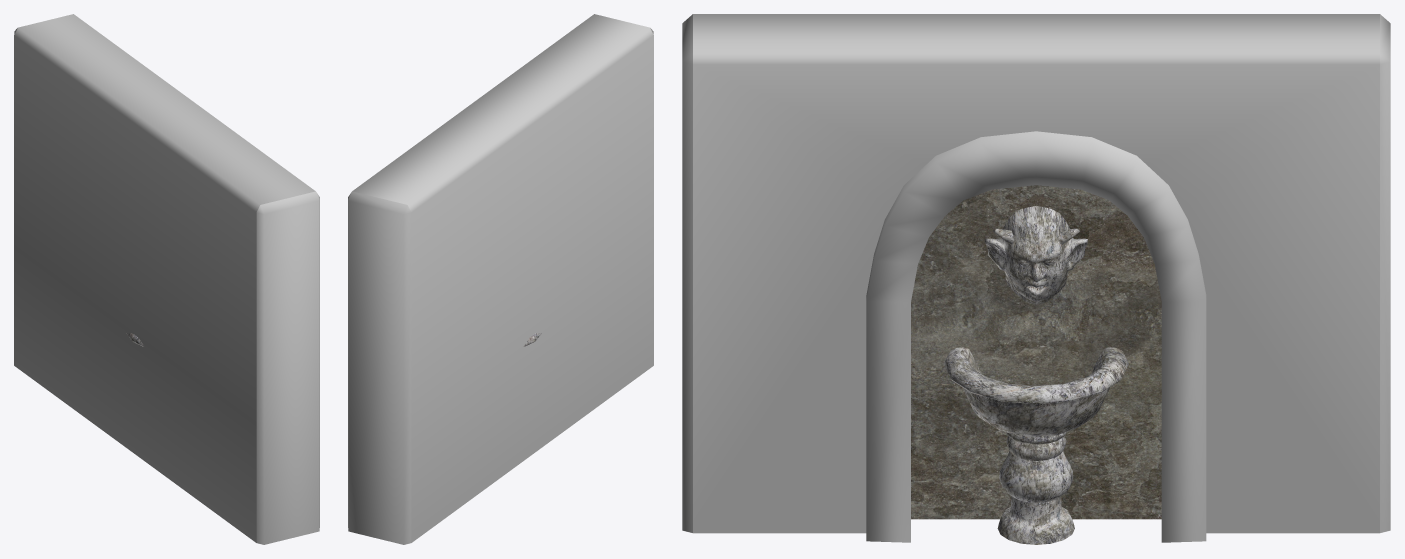
The model's file is Wall_Fountain.FBX.
3 renders of one model, left to right at view 1: azimuth 30°, elevation 25°; view 2: azimuth 150°, elevation 25°; view 3: azimuth 270°, elevation 25°, orthographic. The views are drawn at different scales.
Parts seen in each view (by area): view 1: Wall_Fountain; view 2: Wall_Fountain; view 3: Wall_Fountain, Cover_Fountain, Fountain, Face_Fountain.
Boxes of the visible parts, <box> form: Wall_Fountain: <box>14,14,319,544</box>; Wall_Fountain: <box>348,14,653,544</box>; Wall_Fountain: <box>682,14,1390,542</box>; Cover_Fountain: <box>911,185,1161,519</box>; Fountain: <box>944,347,1128,544</box>; Face_Fountain: <box>985,206,1087,305</box>.
Size of the model in its own units: 107 by 308 by 411.
